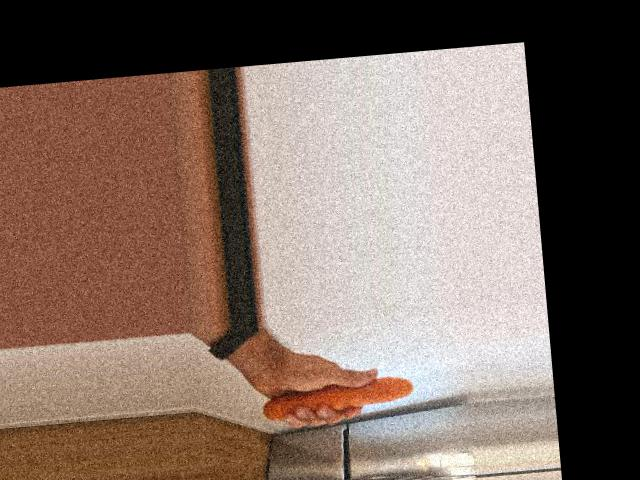carrot: (258, 375, 413, 420)
